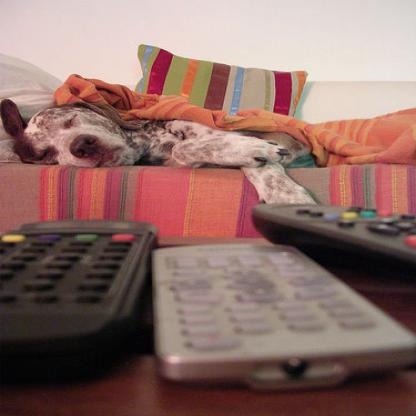dog: (0, 99, 319, 205)
